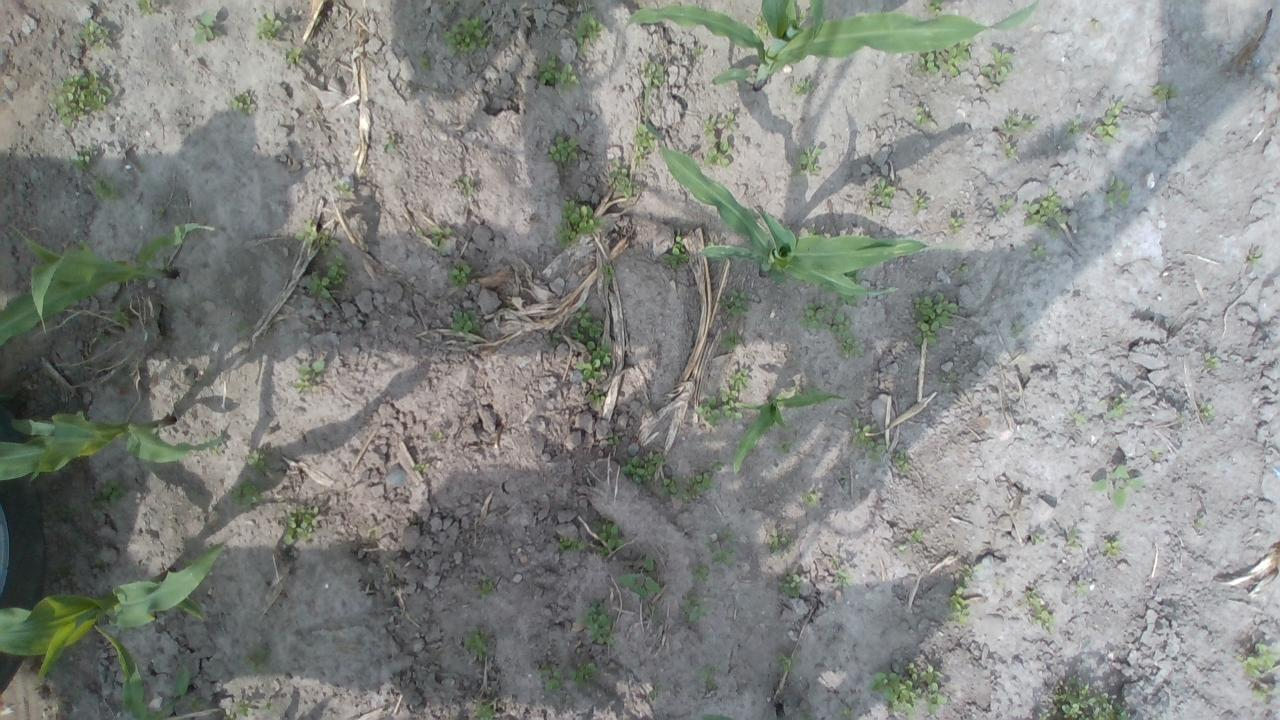Maize: (642, 101, 962, 301), (619, 0, 1044, 91), (0, 534, 233, 690), (0, 222, 219, 354), (0, 404, 221, 486), (731, 387, 856, 473), (96, 621, 192, 720), (701, 699, 790, 720)
Weeds: (868, 661, 948, 720), (1034, 677, 1129, 720), (46, 68, 112, 126), (798, 300, 864, 358), (694, 367, 751, 428), (570, 301, 612, 380), (554, 196, 606, 250), (908, 291, 959, 346), (1020, 185, 1068, 239), (1088, 464, 1142, 510), (914, 36, 969, 79), (439, 14, 492, 57), (945, 562, 979, 626), (617, 552, 663, 598), (534, 50, 580, 96), (701, 111, 737, 167), (660, 470, 716, 503), (577, 598, 615, 646), (295, 218, 341, 257), (850, 416, 886, 463), (282, 504, 322, 546), (1235, 642, 1280, 679), (980, 46, 1015, 92), (1024, 588, 1056, 634), (590, 514, 624, 557), (620, 451, 664, 484), (86, 476, 126, 512), (571, 10, 605, 52), (1094, 101, 1123, 146), (658, 227, 689, 269), (1096, 391, 1138, 422), (291, 360, 326, 394), (76, 16, 112, 49), (790, 146, 824, 179), (608, 159, 636, 199), (544, 135, 580, 165), (462, 624, 491, 660), (632, 122, 656, 165), (708, 530, 736, 566), (1102, 176, 1132, 208), (230, 478, 260, 510), (192, 10, 220, 44), (448, 308, 482, 335), (242, 646, 274, 674), (568, 660, 599, 688), (682, 594, 710, 625), (324, 250, 348, 286), (720, 288, 750, 316), (302, 270, 332, 298), (255, 10, 282, 41), (998, 114, 1037, 135), (92, 174, 121, 202), (228, 88, 257, 116), (869, 178, 897, 207), (538, 663, 564, 691), (766, 526, 792, 554), (447, 260, 471, 290), (639, 59, 665, 86), (70, 144, 96, 170), (473, 572, 497, 600), (912, 105, 938, 130), (778, 571, 802, 597), (430, 225, 452, 253), (832, 556, 852, 586), (246, 449, 270, 473), (112, 302, 134, 328), (893, 446, 913, 474), (718, 330, 744, 351), (556, 534, 586, 552), (1250, 686, 1280, 704), (454, 174, 476, 198), (754, 10, 772, 39), (331, 179, 357, 198), (1151, 82, 1177, 100), (691, 560, 712, 582), (474, 700, 497, 720), (774, 651, 794, 673), (584, 389, 606, 408), (284, 45, 303, 66), (792, 78, 814, 96), (1203, 351, 1221, 373), (836, 292, 860, 308), (702, 665, 718, 689), (996, 197, 1016, 216), (911, 194, 929, 215), (800, 488, 820, 506), (1066, 118, 1082, 140), (188, 694, 210, 710), (842, 268, 861, 286), (236, 699, 254, 718), (600, 262, 616, 283), (1066, 527, 1080, 550), (1067, 410, 1088, 424), (906, 528, 924, 544), (1104, 539, 1120, 557), (135, 0, 154, 15), (232, 318, 252, 332), (543, 330, 560, 346), (948, 216, 964, 233), (1030, 241, 1046, 258), (203, 438, 220, 454), (646, 604, 661, 622), (418, 52, 433, 70), (795, 7, 809, 26), (784, 383, 803, 397), (778, 439, 795, 454), (709, 458, 727, 472), (926, 0, 944, 14), (384, 138, 399, 154), (96, 327, 110, 344), (1002, 142, 1016, 159), (1200, 402, 1214, 418), (836, 706, 852, 720), (1076, 580, 1090, 596), (689, 44, 707, 56), (806, 226, 824, 238), (1030, 532, 1048, 544), (1147, 446, 1162, 460), (649, 684, 662, 700), (941, 371, 958, 383), (1011, 320, 1023, 337), (1248, 250, 1262, 264), (606, 433, 622, 445), (806, 382, 822, 393), (954, 264, 970, 274), (412, 462, 428, 472), (223, 708, 236, 720), (261, 702, 276, 712), (1195, 515, 1206, 527), (820, 283, 834, 292), (156, 205, 167, 216), (840, 474, 850, 486), (897, 542, 908, 552), (707, 241, 715, 246)
